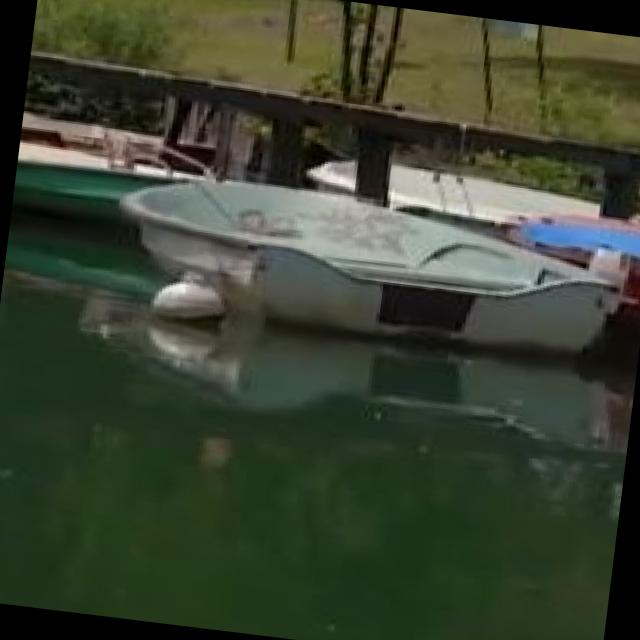boat: (90, 159, 640, 396)
